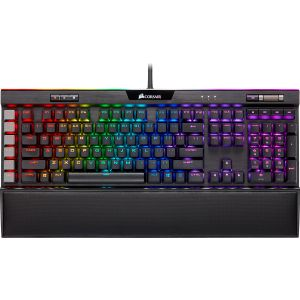keyboard: (1, 88, 300, 239)
